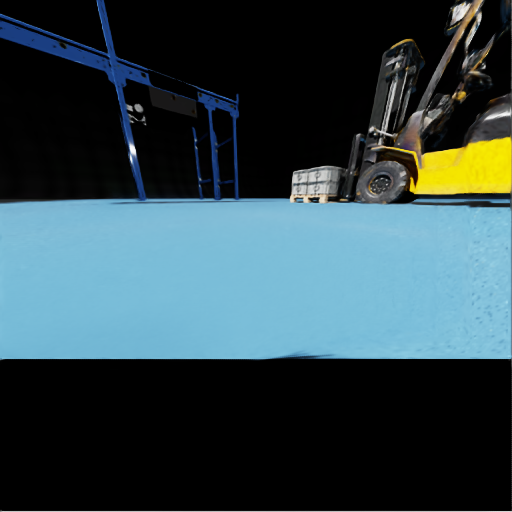transportation_area: (308, 181, 344, 194), (108, 64, 110, 66), (130, 72, 131, 73), (97, 61, 98, 62), (54, 46, 55, 47)
